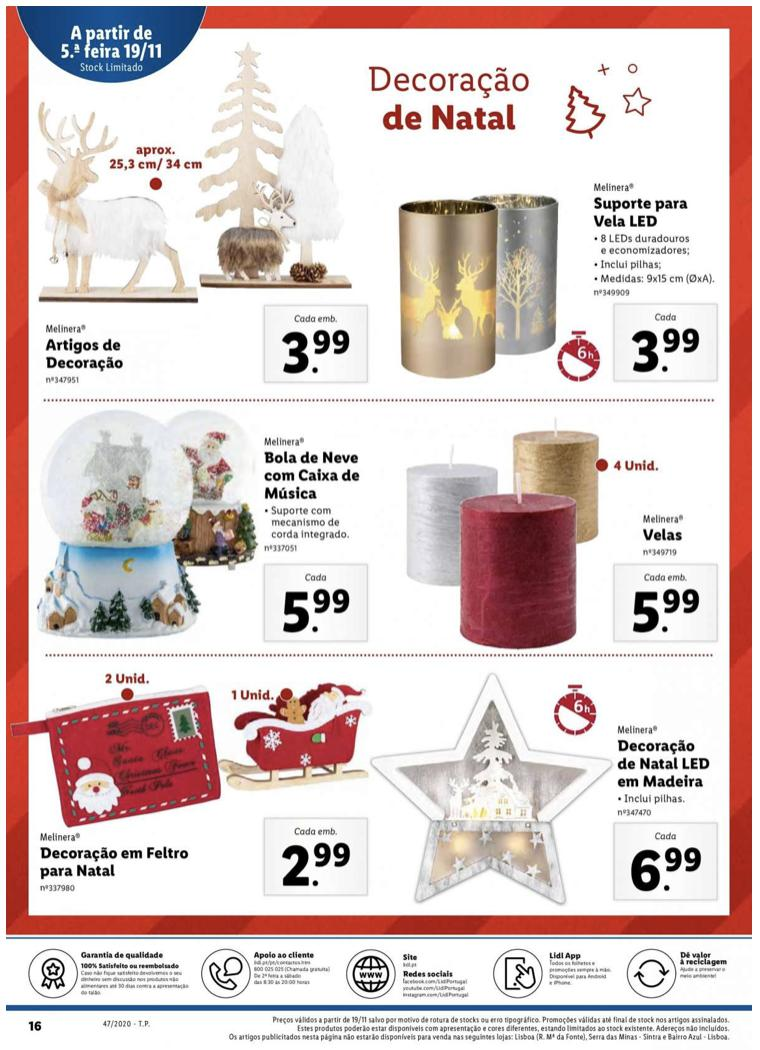name: (37, 842, 193, 886), (261, 444, 365, 503), (615, 737, 713, 790), (586, 192, 694, 229), (39, 334, 129, 372), (641, 524, 685, 546)
price: (277, 837, 356, 894), (280, 324, 356, 383), (630, 325, 707, 382), (277, 583, 354, 640), (630, 844, 708, 900), (630, 582, 703, 639)
product: (29, 50, 372, 395), (31, 665, 381, 911), (381, 661, 721, 911), (35, 409, 373, 646), (381, 412, 716, 646), (381, 174, 718, 394)
